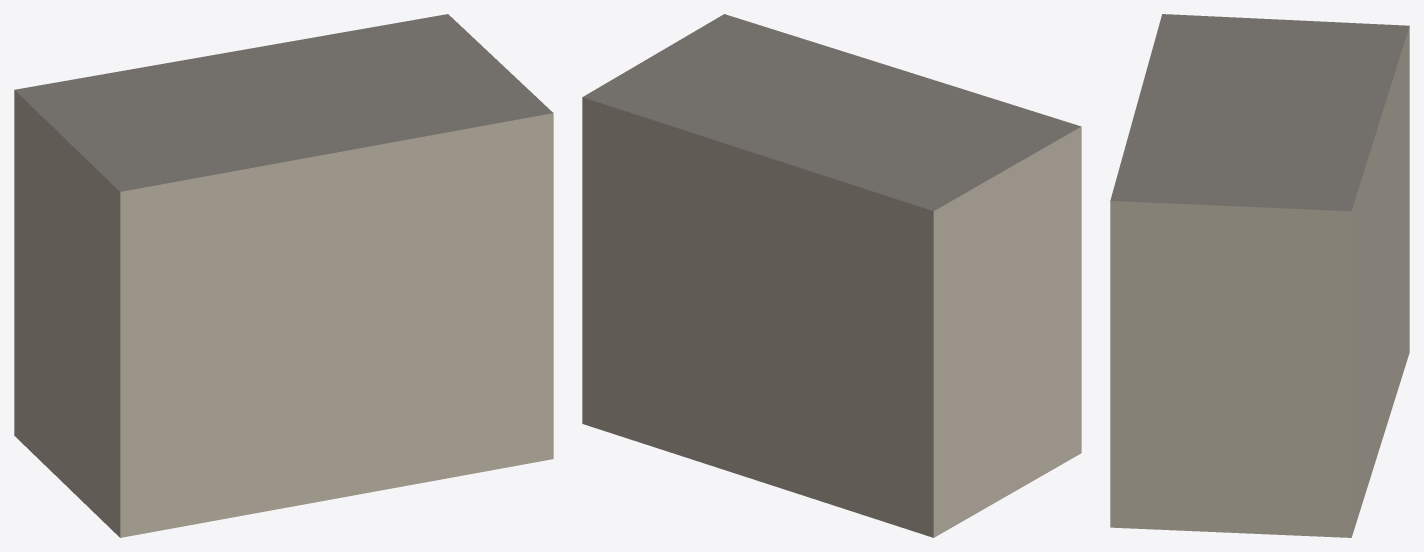
The picture shows the model from 3 angles, left to right: view 1: azimuth 30°, elevation 25°; view 2: azimuth 150°, elevation 25°; view 3: azimuth 270°, elevation 25°; orthographic projection. The views are drawn at different scales.
Parts seen in each view (by area): view 1: HP-w505643557; view 2: HP-w505643557; view 3: HP-w505643557.
Part boxes in pixels (x1,y1,x2,y2): HP-w505643557: (14, 14, 553, 537); HP-w505643557: (582, 14, 1081, 537); HP-w505643557: (1110, 14, 1409, 537).
Size of the model in its own units: 19.43 by 15 by 12.46.
